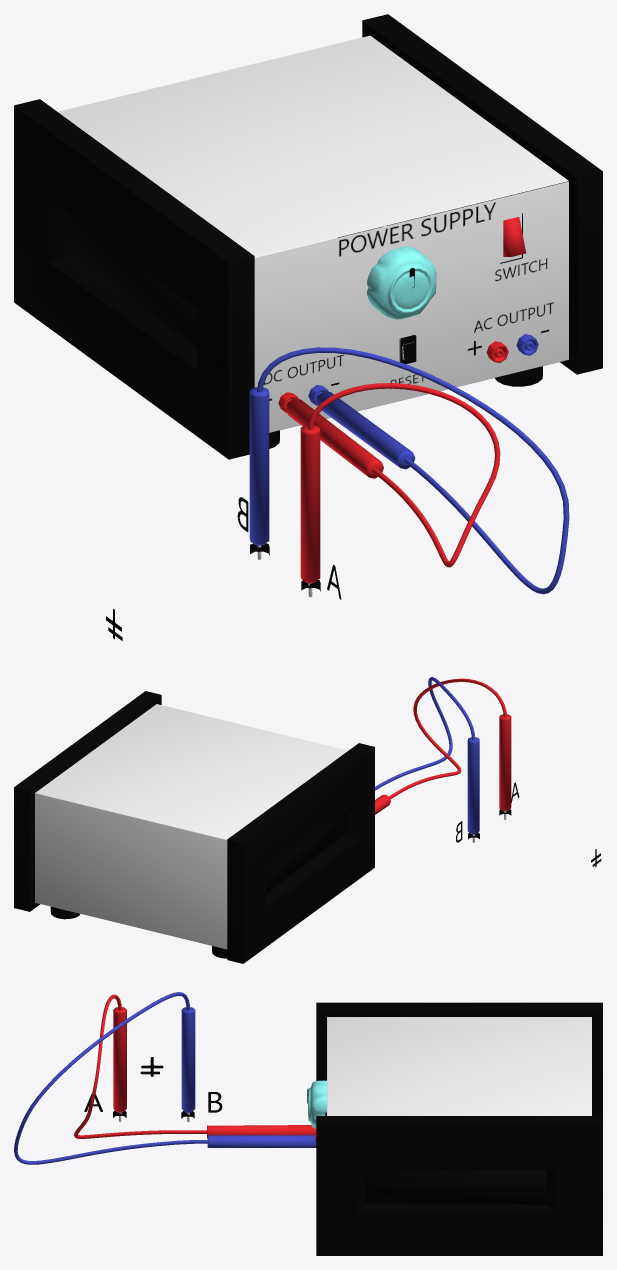
The model's file is powersupply.glb.
The picture shows the model from 3 angles, top to bottom: view 1: azimuth 30°, elevation 25°; view 2: azimuth 150°, elevation 25°; view 3: azimuth 270°, elevation 25°; orthographic projection. The views are drawn at different scales.
Visible parts, largest first — view 1: Supply, connector, Voltage Knob; view 2: Supply, connector; view 3: Supply, connector, Voltage Knob.
Part boxes in pixels (x1,y1,x2,y2): Supply: (14,14,602,599); connector: (249,347,569,597); Voltage Knob: (367,246,436,319); Supply: (14,691,519,963); connector: (375,677,511,842); Supply: (84,1002,602,1255); connector: (14,992,316,1164); Voltage Knob: (307,1080,326,1128).
Size of the model in its own units: 3.24 by 1.17 by 4.02.
Materials: 1 (1 with a texture image).
